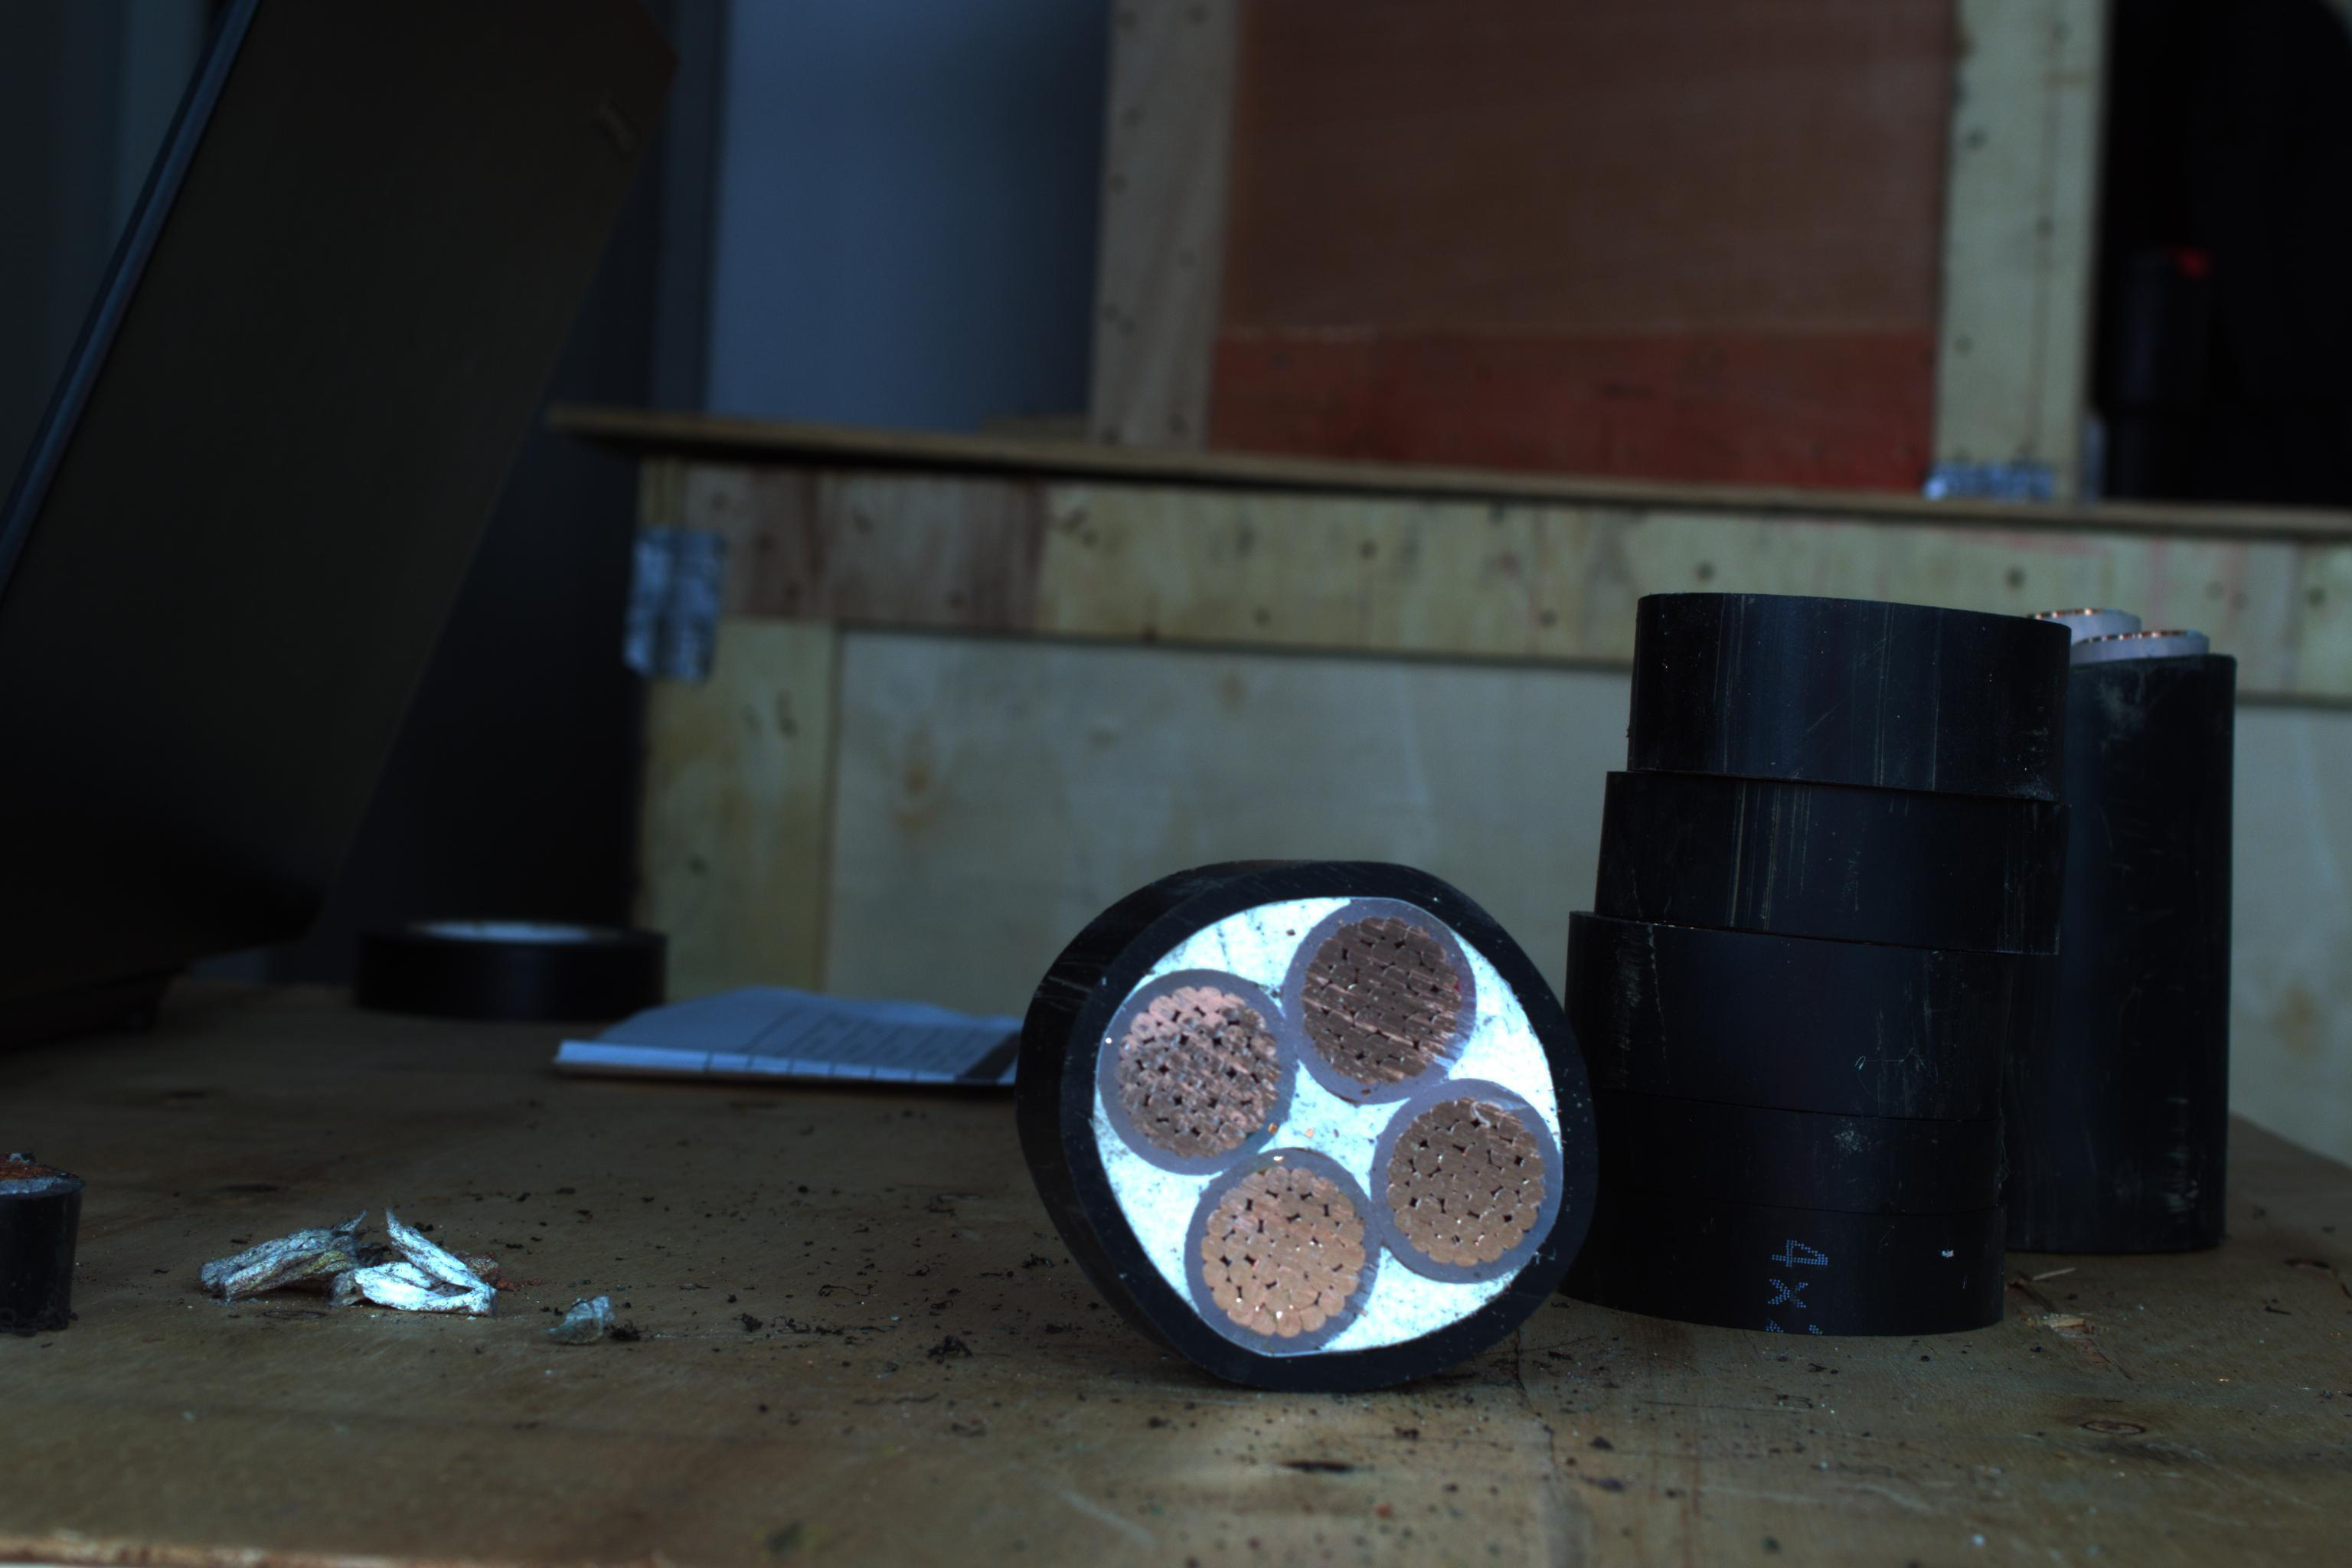YJV_0.6_1kV_4x240: (1059, 868, 1592, 1384)
